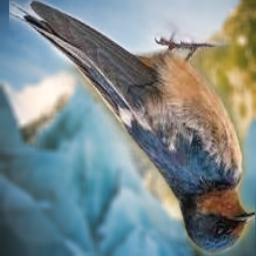Swallow: (9, 0, 255, 256)
